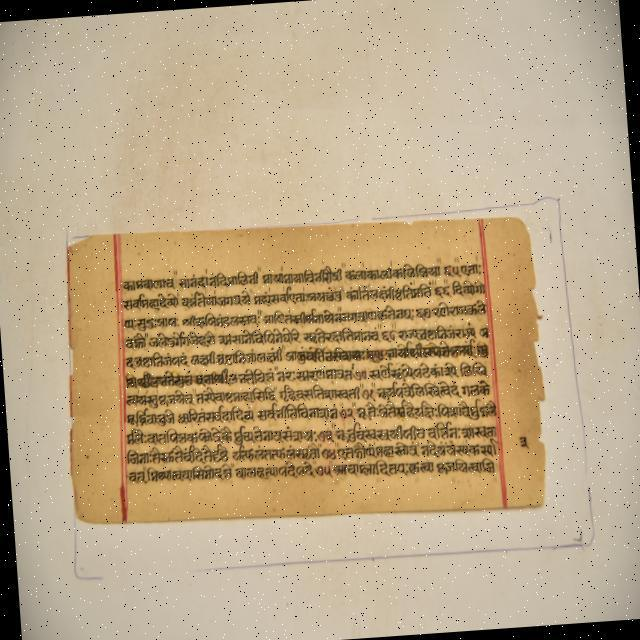text_paragraph: (70, 218, 543, 518)
